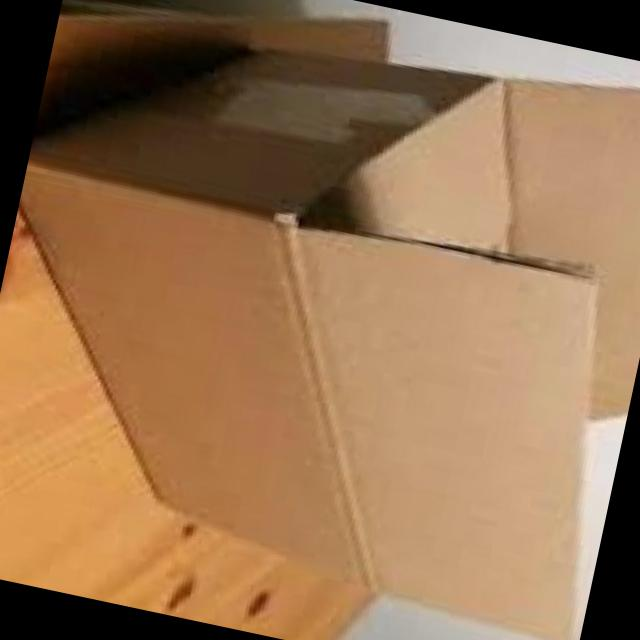cardboard paper: (19, 51, 640, 640)
